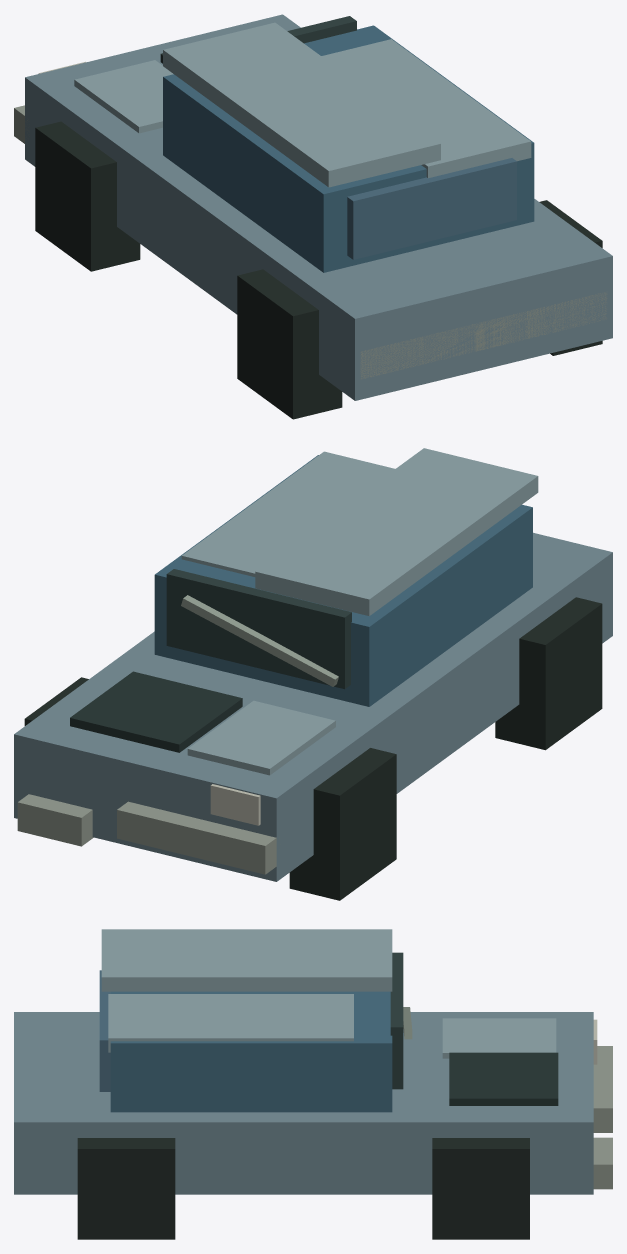
File: damaged-car.glb
The picture shows the model from 3 angles, top to bottom: view 1: azimuth 30°, elevation 25°; view 2: azimuth 150°, elevation 25°; view 3: azimuth 270°, elevation 25°; orthographic projection. The views are drawn at different scales.
Visible parts, largest first — view 1: damaged-car; view 2: damaged-car; view 3: damaged-car.
Part boxes in pixels (box(x1,y1,x2,y2)): damaged-car: box(14, 14, 612, 419); damaged-car: box(14, 448, 612, 900); damaged-car: box(14, 929, 612, 1239).
Size of the model in its own units: 2.4 by 1.68 by 4.58.
